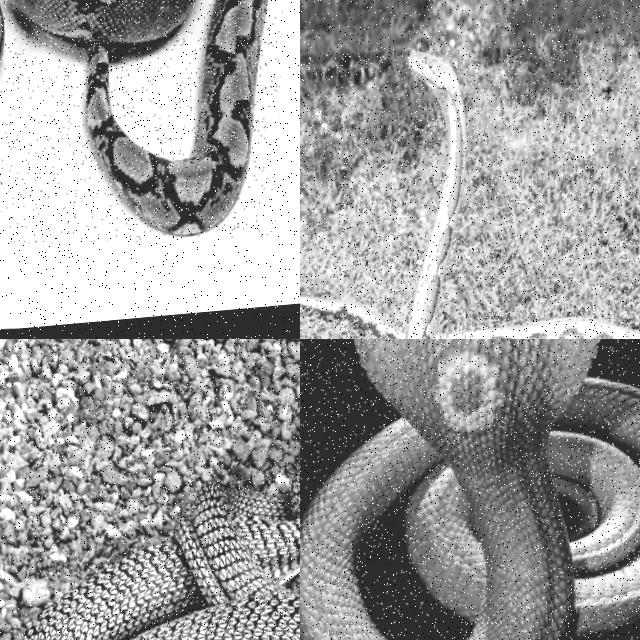Chrysopelea ornata: (23, 473, 299, 639)
Malayopython reticulatus: (20, 0, 271, 234), (300, 51, 466, 338)
Naja kaouthia: (300, 339, 639, 639)
snake: (300, 339, 639, 639), (20, 0, 271, 234), (300, 51, 466, 338), (23, 473, 299, 639)
